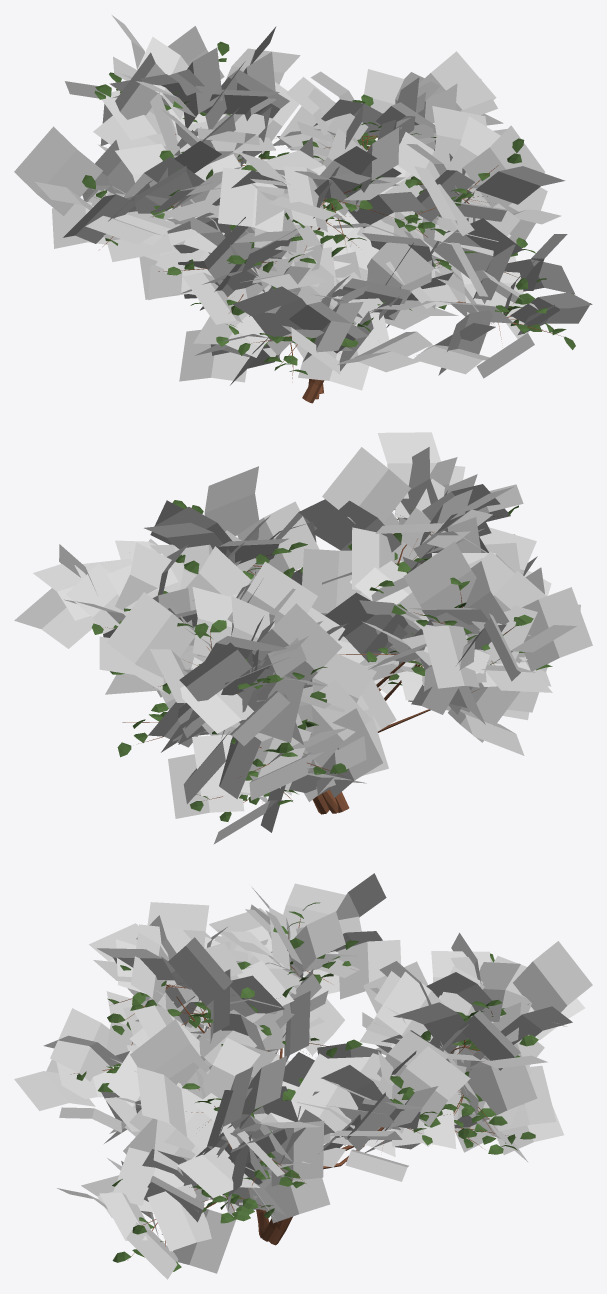
File: Arbousier_Etale_LOD1.fbx
3 renders of one model, top to bottom at view 1: azimuth 30°, elevation 25°; view 2: azimuth 150°, elevation 25°; view 3: azimuth 270°, elevation 25°, orthographic. The views are drawn at different scales.
Visible parts, largest first — view 1: Arbousier_Etale_LOD1; view 2: Arbousier_Etale_LOD1; view 3: Arbousier_Etale_LOD1.
Part boxes in pixels (<box>): Arbousier_Etale_LOD1: <box>14,15,592,403</box>; Arbousier_Etale_LOD1: <box>14,432,592,844</box>; Arbousier_Etale_LOD1: <box>14,873,592,1279</box>.
Bounding box in the file's own units: 499 × 314 × 532.
